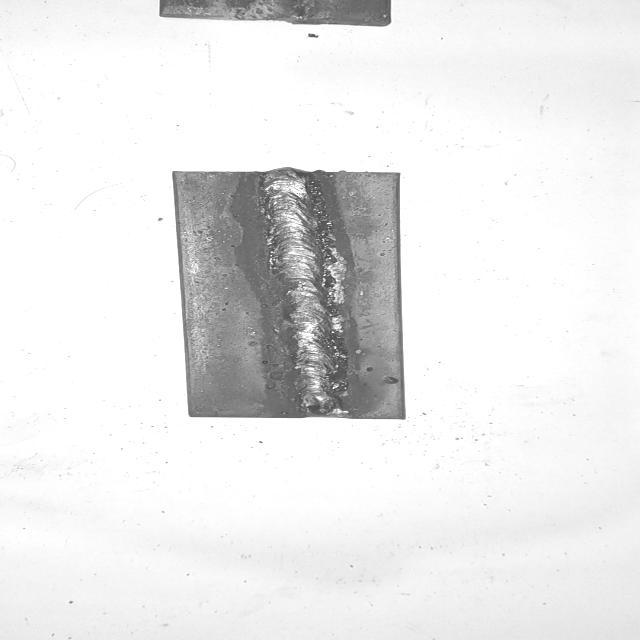Welding Line: (263, 176, 344, 415)
Workpiece: (162, 166, 412, 422)
